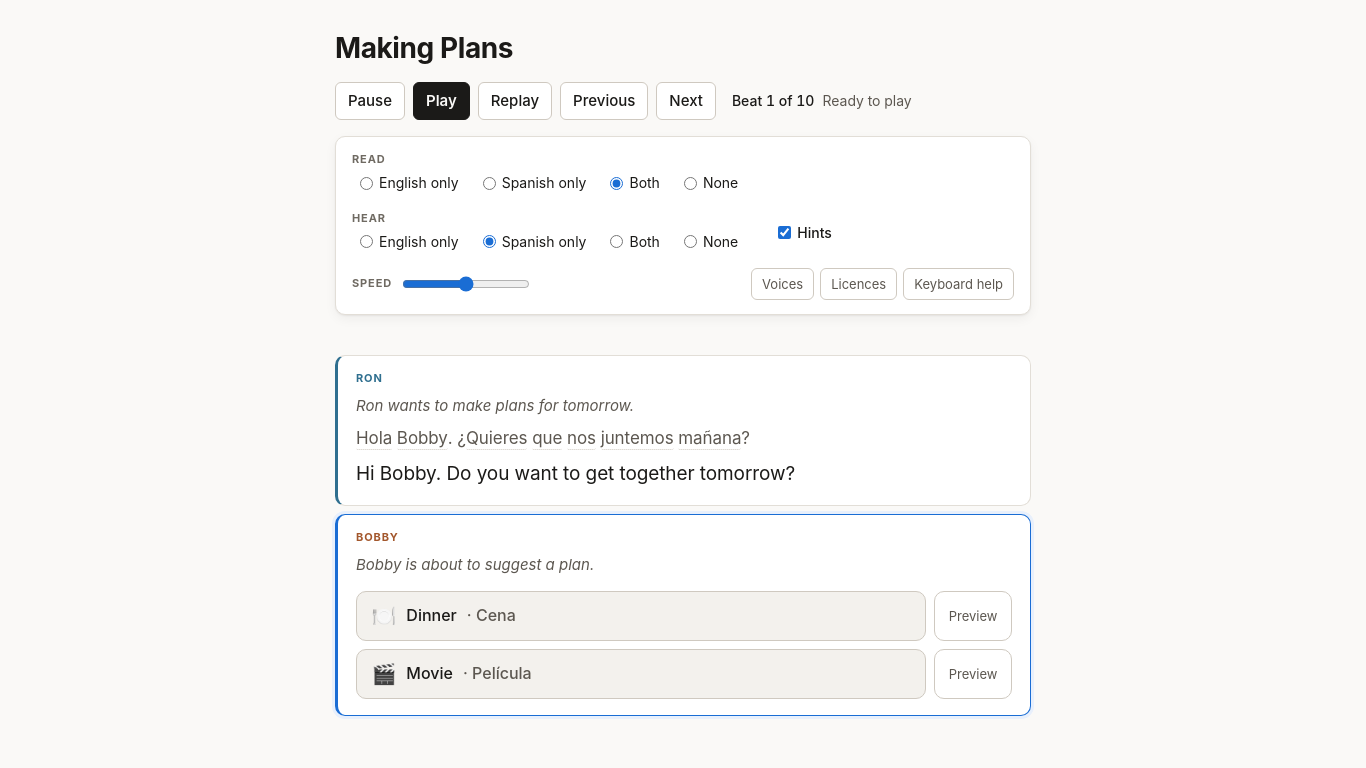
Test: G1/G2 state machine (D4 §9, AC-UI-14/15/16) › AC-UI-16: the picker offers an Automatic row that shows the resolved voice
Click the button "Voices": (783, 284) [751,268,814,300]
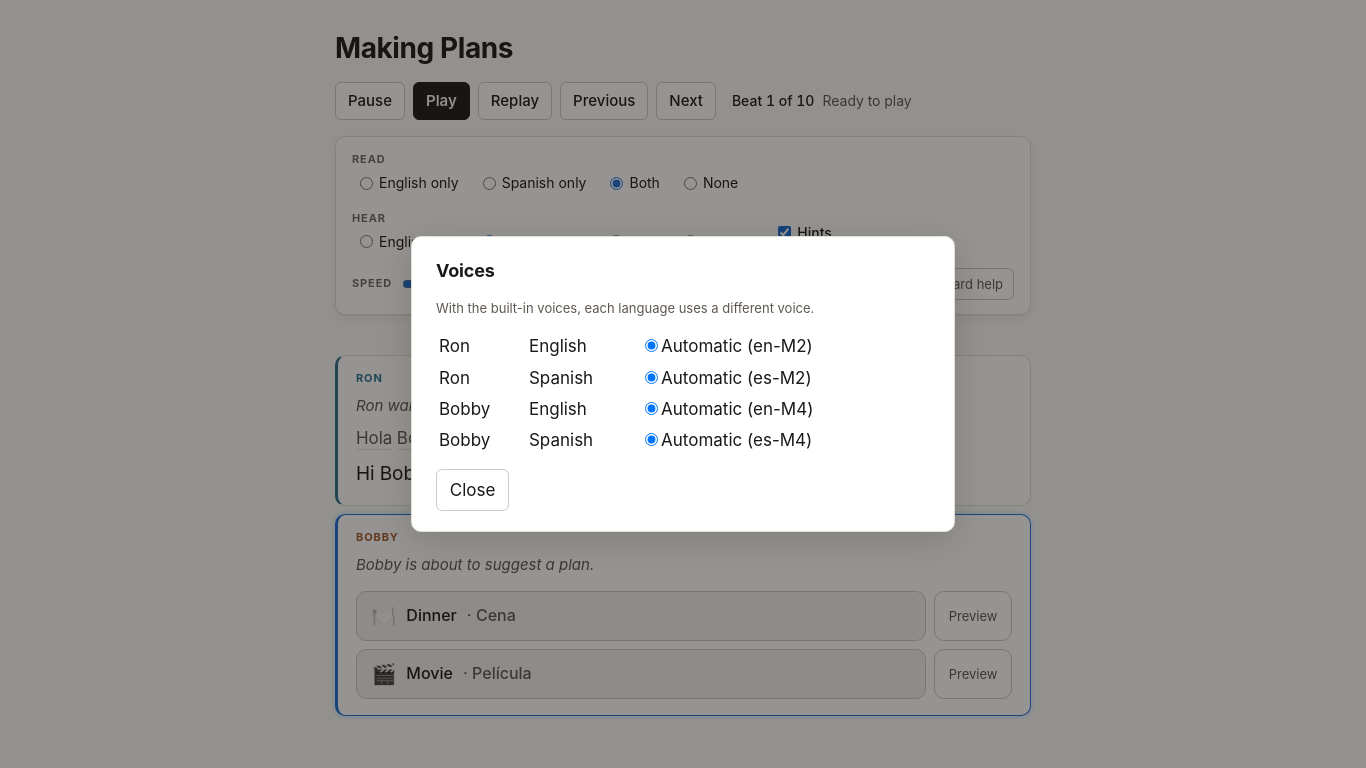
Now the dialog is shown, box [411,236,955,532]
Now the text "Automatic (en-M2)" is shown, box [640,336,813,356]
Now the text "Automatic (es-M2)" is shown, box [640,368,812,388]
